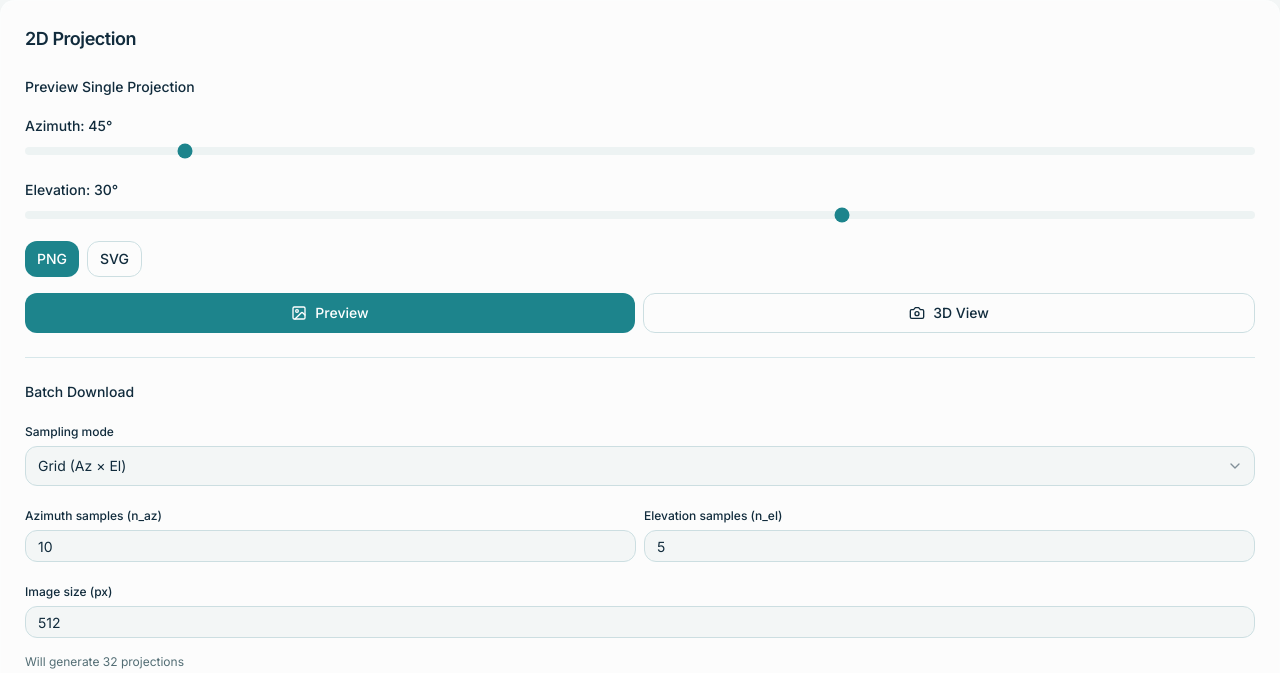
ProjectionControls › switching to legacy mode shows the original 6 sweep inputs
Select "Legacy (manual sweep)" in the dropdown labelled "Sampling mode": (640,466) [25,446,1255,486]
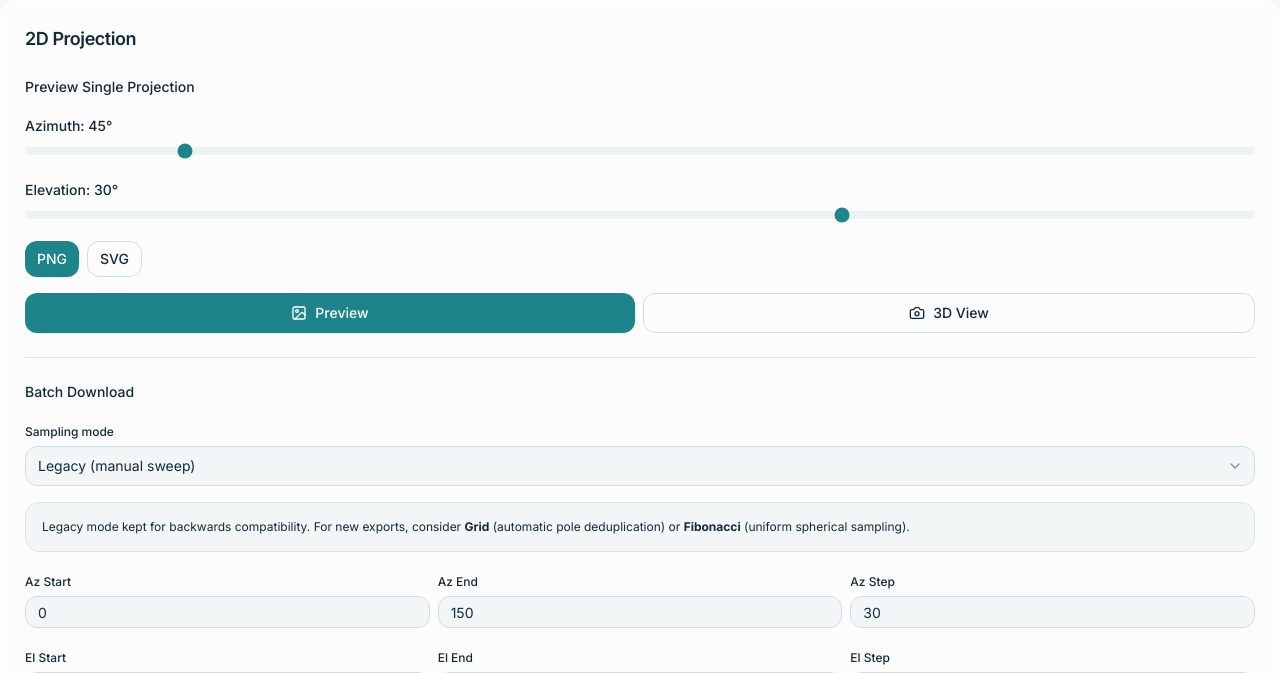
Expected: the text "Az Start" is shown, [25,574,71,589]
Expected: the text "Az End" is shown, [438,574,478,589]
Expected: the text "Az Step" is shown, [850,574,895,589]
